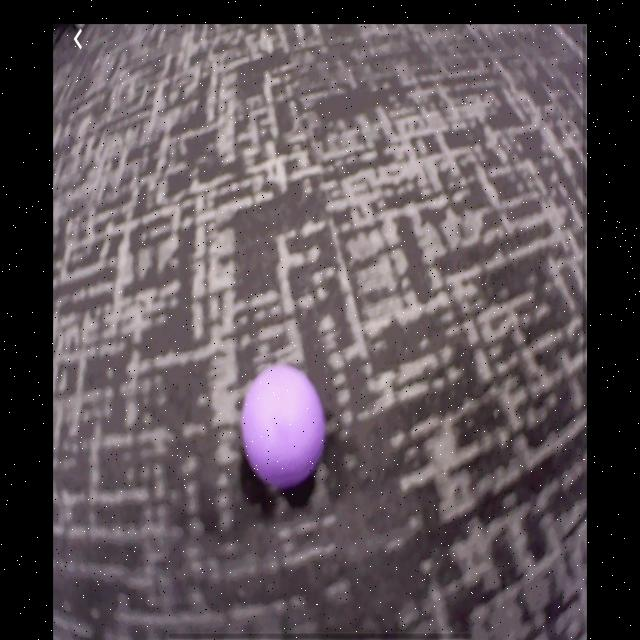ball: (242, 366, 325, 484)
